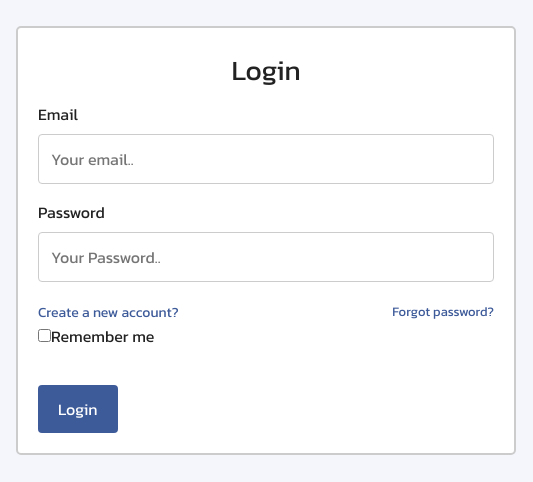
Test case: Login - field validation › shows error when password is too short
The image size is (533, 482).
Type "user@test.com" into the field with placeholder "Your email..".
click(266, 159); type("user@test.com")  # box [38,134,494,184]
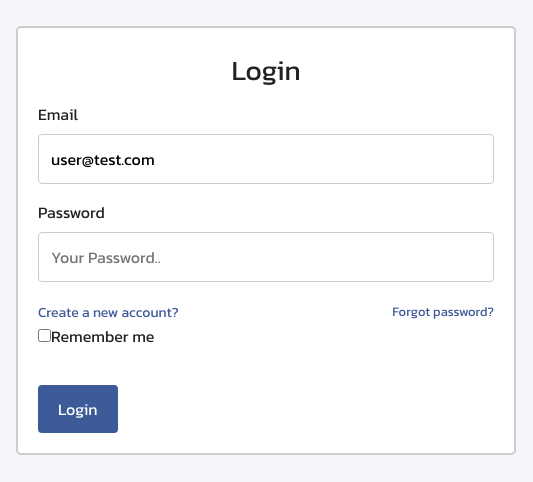
Type "123" into the password field with placeholder "Your Password..".
click(266, 256); type("123")  # box [38,232,494,282]
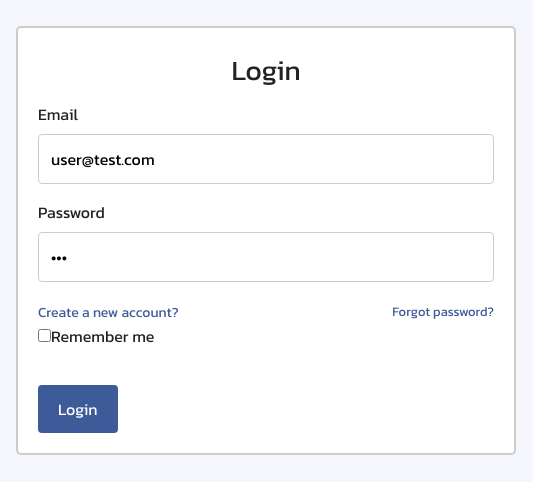
Click the button showing "Login".
click(78, 410)  # box [38,386,118,434]
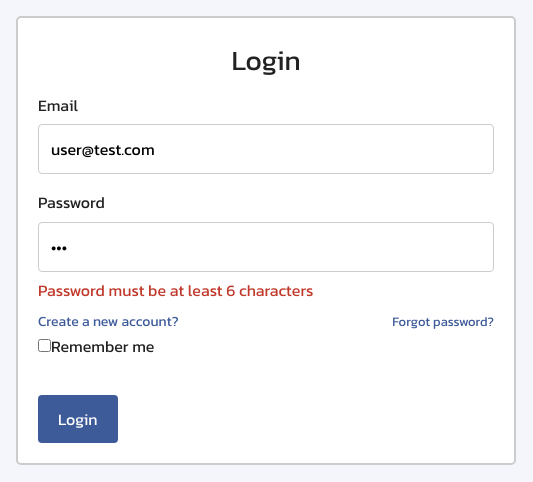
Check: the text "Password must be at least 6 characters" is shown, box [38,278,314,302]
